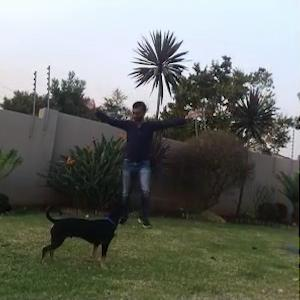takeoff: (91, 101, 207, 221)
